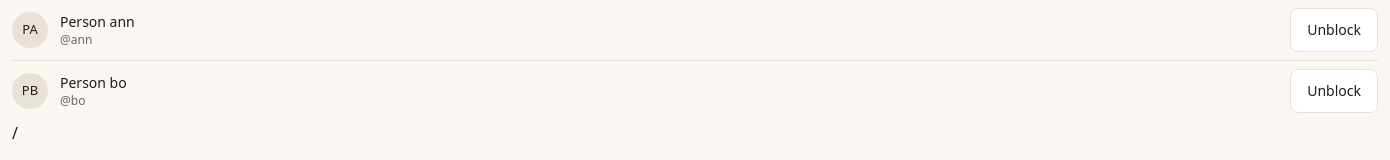
BlockedUsersSection › unblocks by user id and the person leaves the list
The image size is (1390, 160).
Step 1. Click the button with aria-label "Unblock @ann" → (1334, 30), box [1290,8,1378,52]
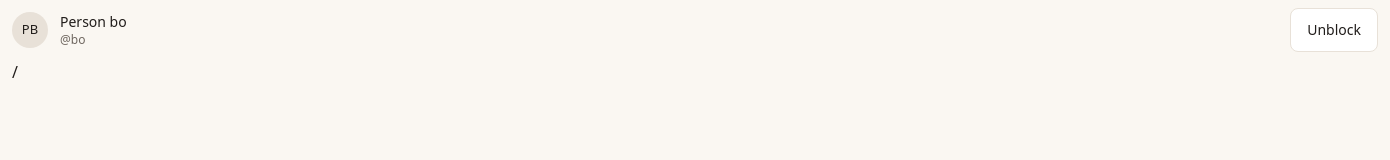
Check: the text "Person bo" is shown, box [60,12,127,31]
Check: the text "Person ann" is gone
